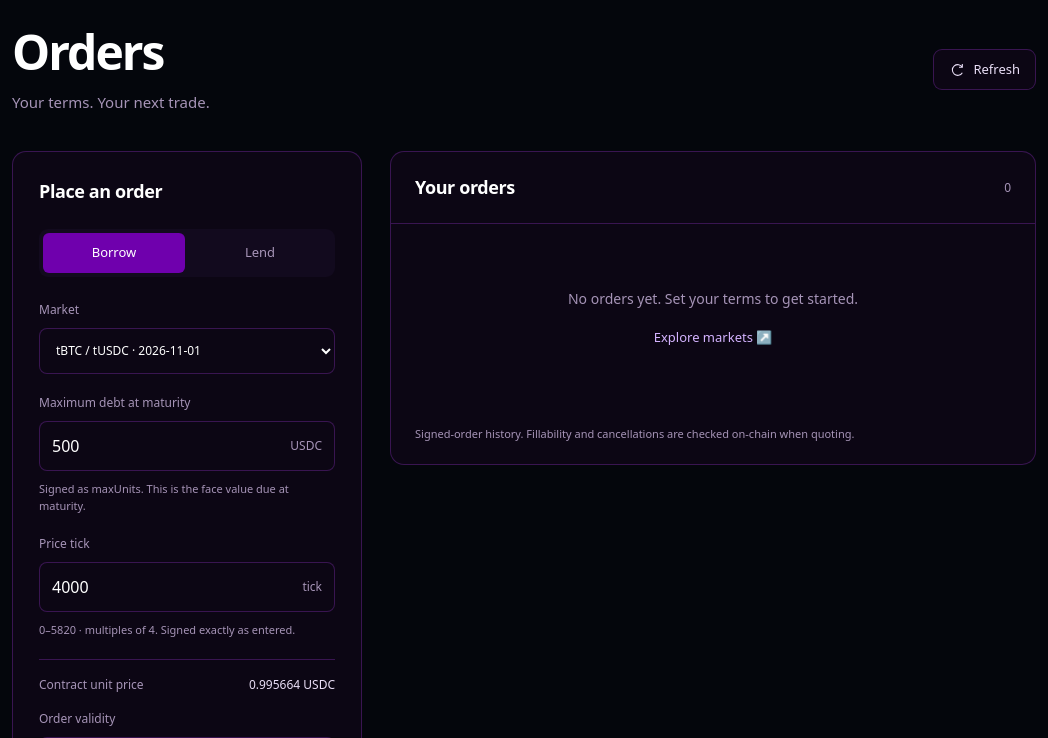
Test case: rejects a tick outside market spacing without opening a signing preview
The image size is (1048, 738).
Expected: the heading "Place an order" is shown, [39,179,162,203]
Replace the text in the field labelled "Price tick" with "4001" at (172, 587), box [52,563,292,611]
(page scrolled)
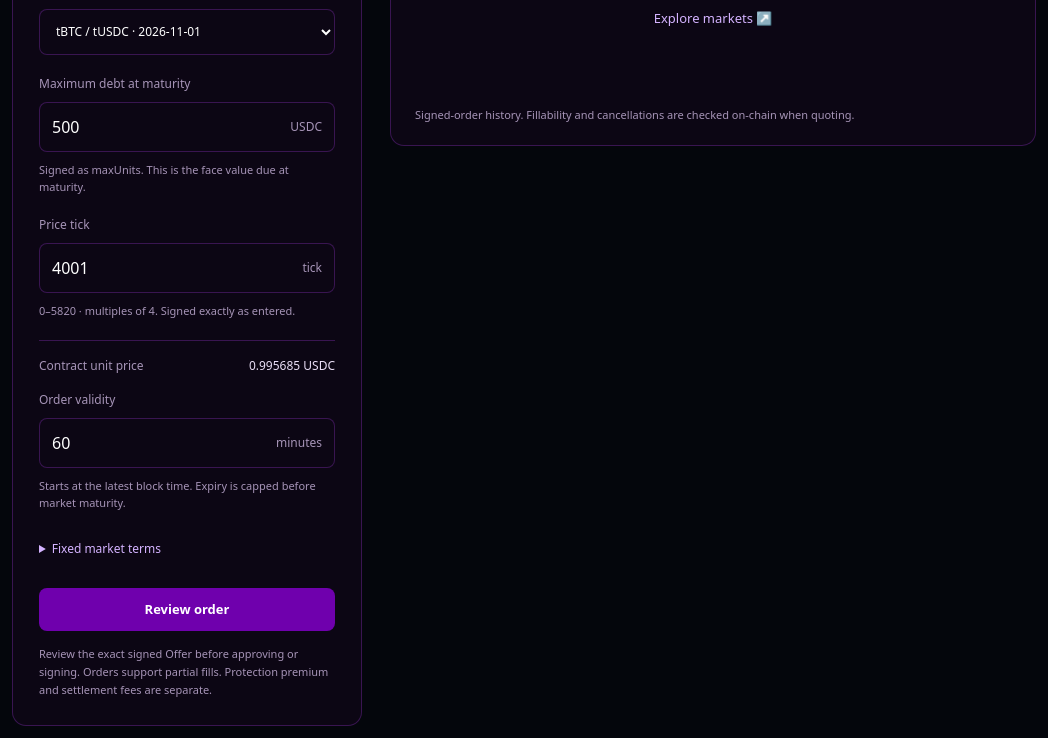
Click the button "Review order" at (187, 609), box [39,588,335,631]
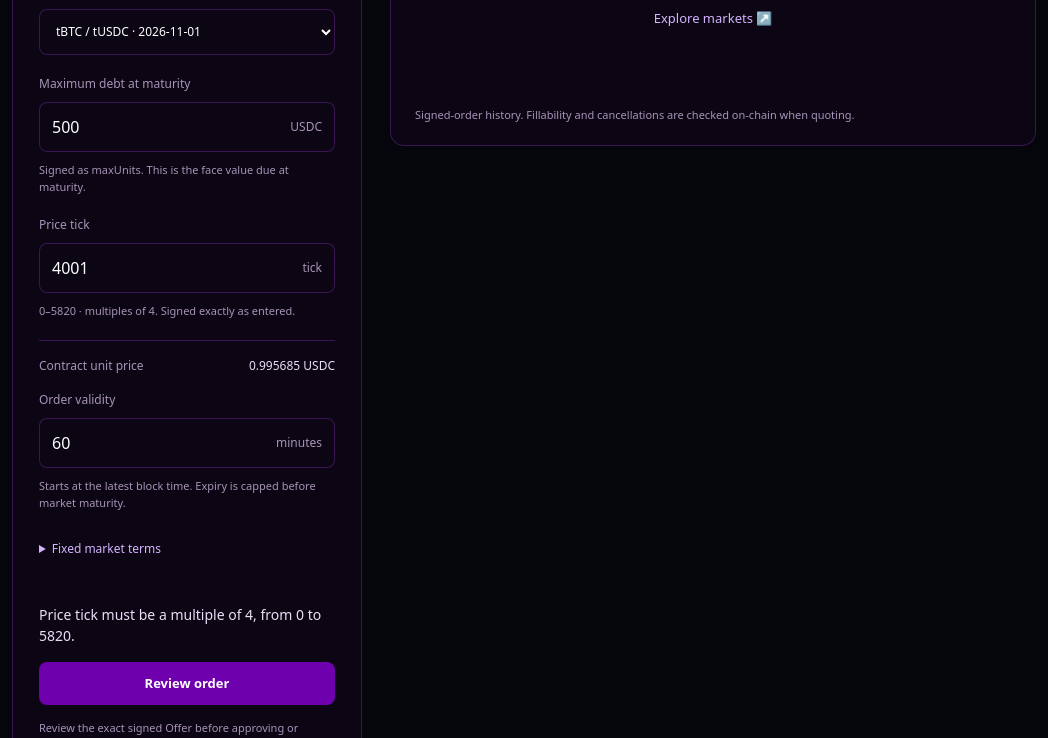
Now the message shows "multiple of 4", box [39,605,321,645]
